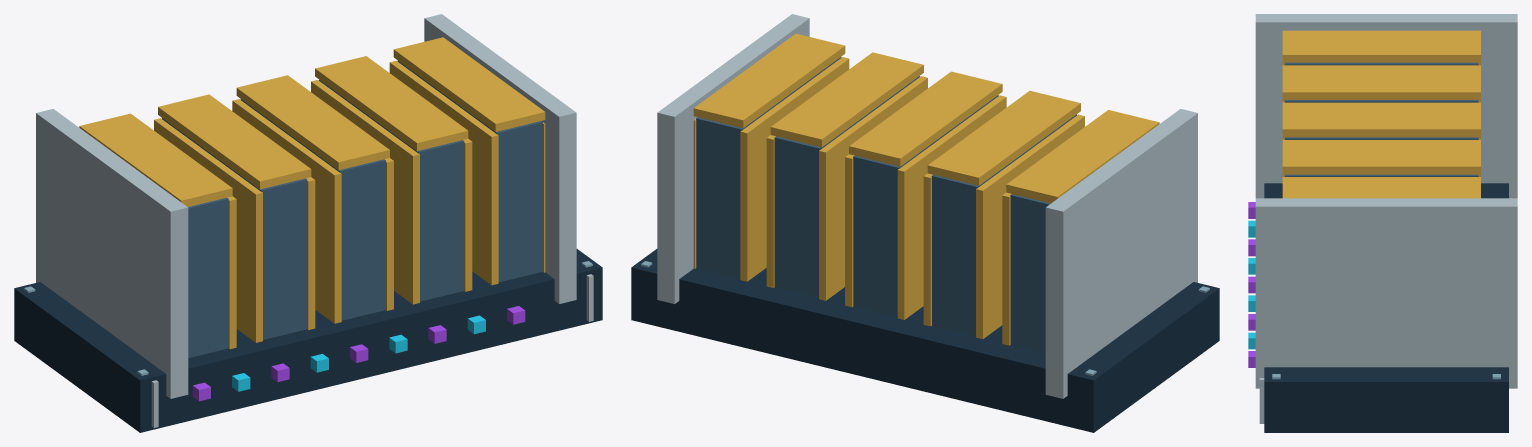
File: 07_L72_HighAspectRatioTrenchSample.fbx
The picture shows the model from 3 angles, left to right: view 1: azimuth 30°, elevation 25°; view 2: azimuth 150°, elevation 25°; view 3: azimuth 270°, elevation 25°; orthographic projection. The views are drawn at different scales.
Visible parts, largest first — view 1: HighAspectRatioTrenchSample; view 2: HighAspectRatioTrenchSample; view 3: HighAspectRatioTrenchSample.
Boxes of the visible parts, left/top/right/bottom form: HighAspectRatioTrenchSample: left=14, top=14, right=602, bottom=432; HighAspectRatioTrenchSample: left=631, top=14, right=1219, bottom=432; HighAspectRatioTrenchSample: left=1248, top=14, right=1517, bottom=432.
Bounding box in the file's own units: 212 × 95.5 × 110.
